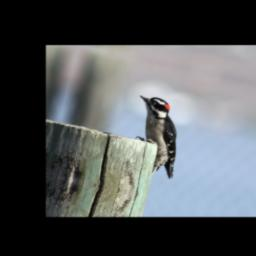Woodpecker: (121, 93, 192, 179)
